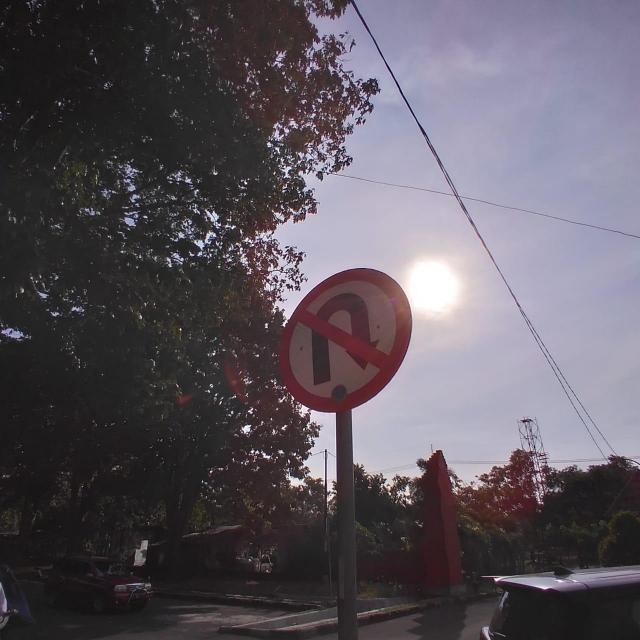traffic sign: (286, 266, 409, 409)
